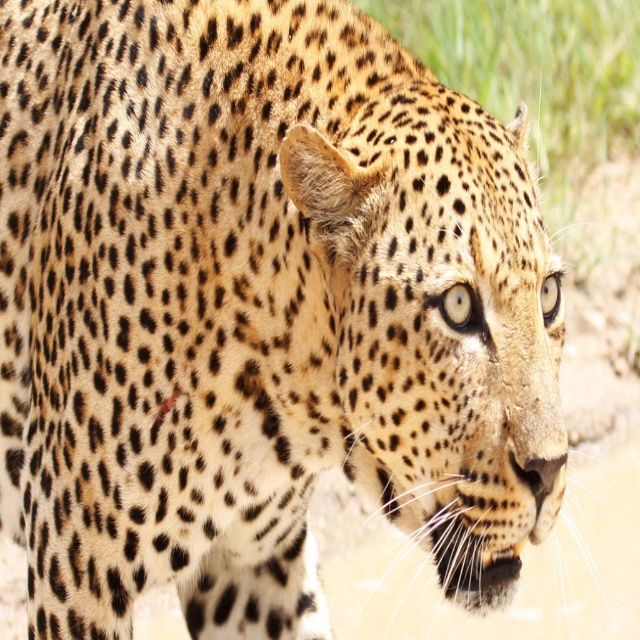Leopard: (0, 0, 570, 639)
